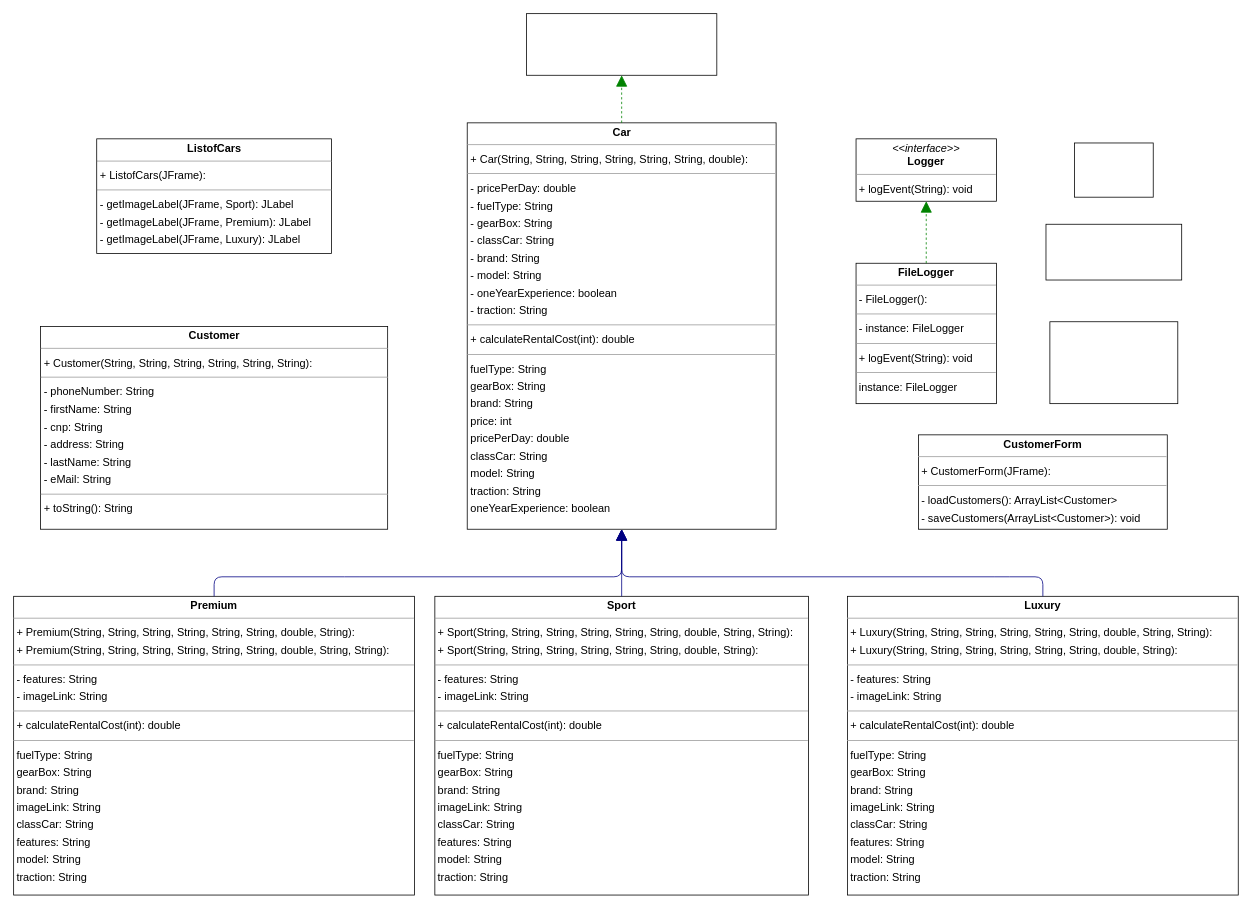
Some shapes in this 1252 by 909 pixel diagram are drawn without their labels. The shapes that lost their labels are listed below. From the top down, each one's centre as x and y in pixels, then its label:
At point 621,44: "<<interface>> RentalCostCalculator + calculateRentalCost(int): double".
At point 1113,169: "Admin + Admin():".
At point 1113,251: "LoginForm ~ LoginForm(JFrame):".
At point 1113,362: "Dashboard + Dashboard(): + main(String[]): void".
